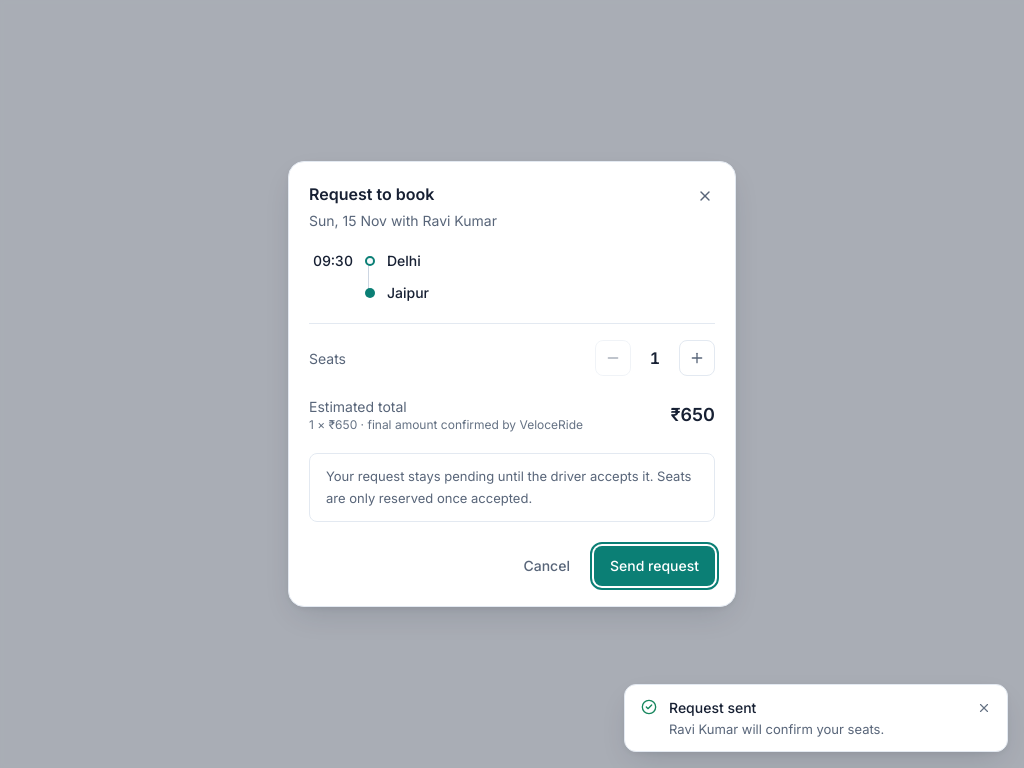
it: booking flow › shows the backend reason when booking is refused
Click the button "Send request". click: (654, 566)
box: [594,546,715,586]
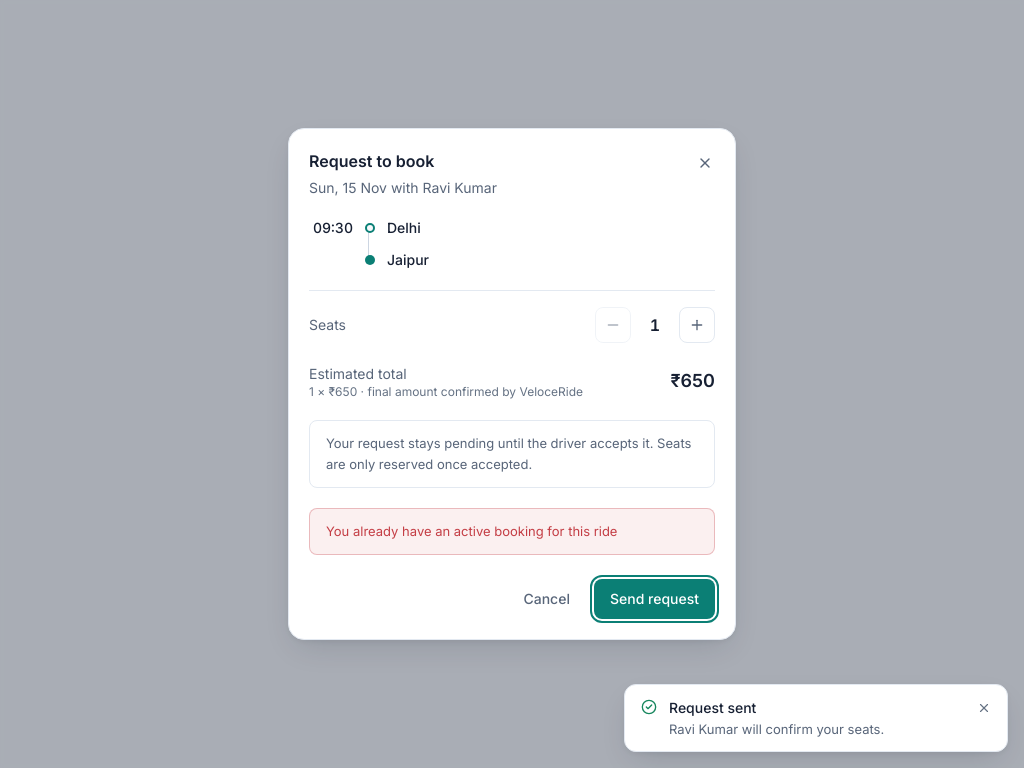
expect the text "You already have an active booking for this ride" is shown: met, box [309,508,715,555]
